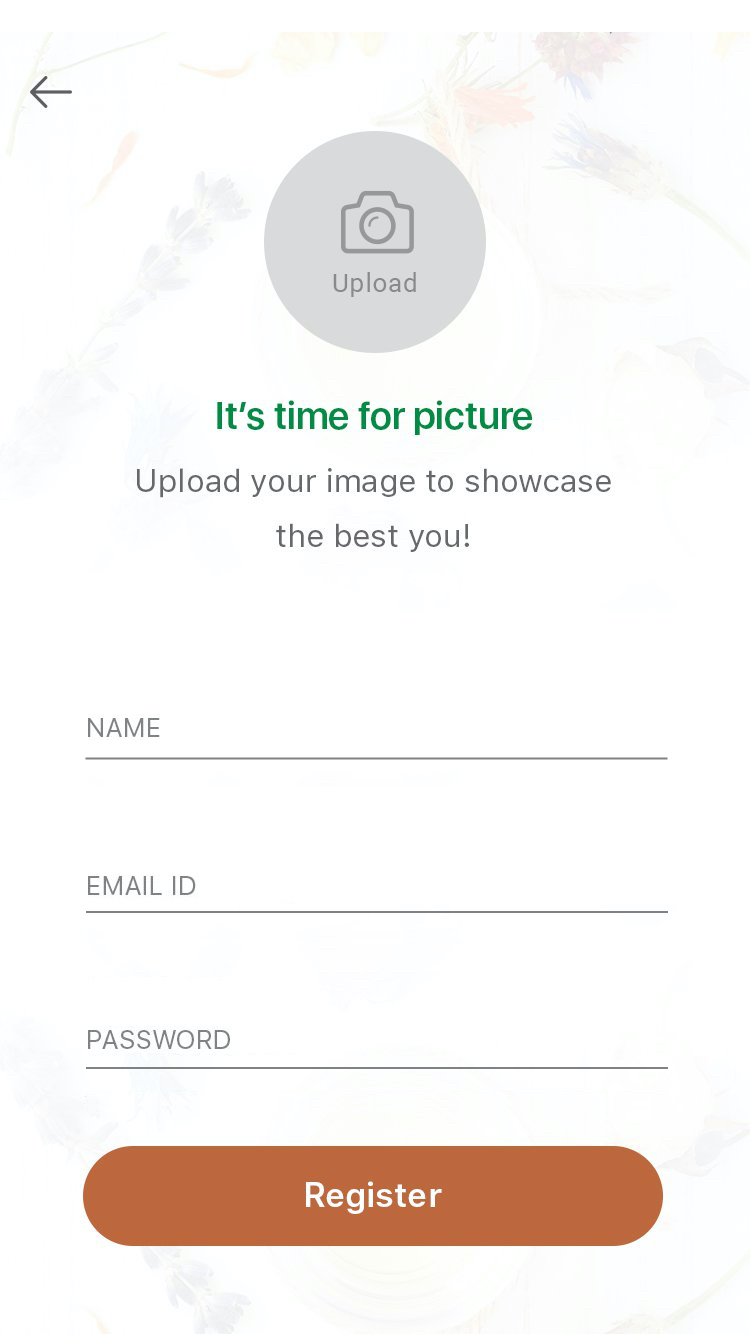EditText: (85, 716, 669, 761), (86, 1029, 669, 1071), (85, 875, 669, 914)
Icon: (30, 76, 74, 110)
Image: (264, 131, 487, 354)
Text: (137, 468, 612, 554), (217, 400, 533, 437), (88, 1029, 231, 1050), (88, 875, 197, 896), (88, 716, 161, 738)
TextButton: (83, 1145, 664, 1247)
